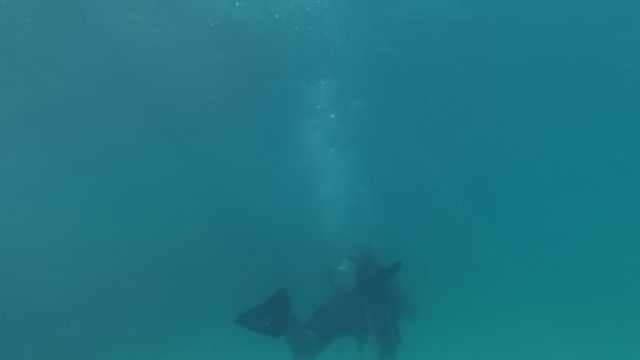Diver: (244, 246, 417, 357)
